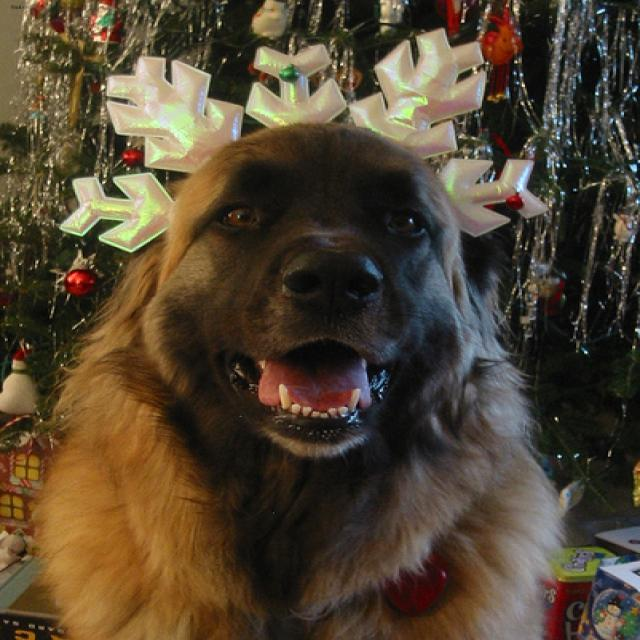dog-leonberger: (19, 113, 581, 637)
